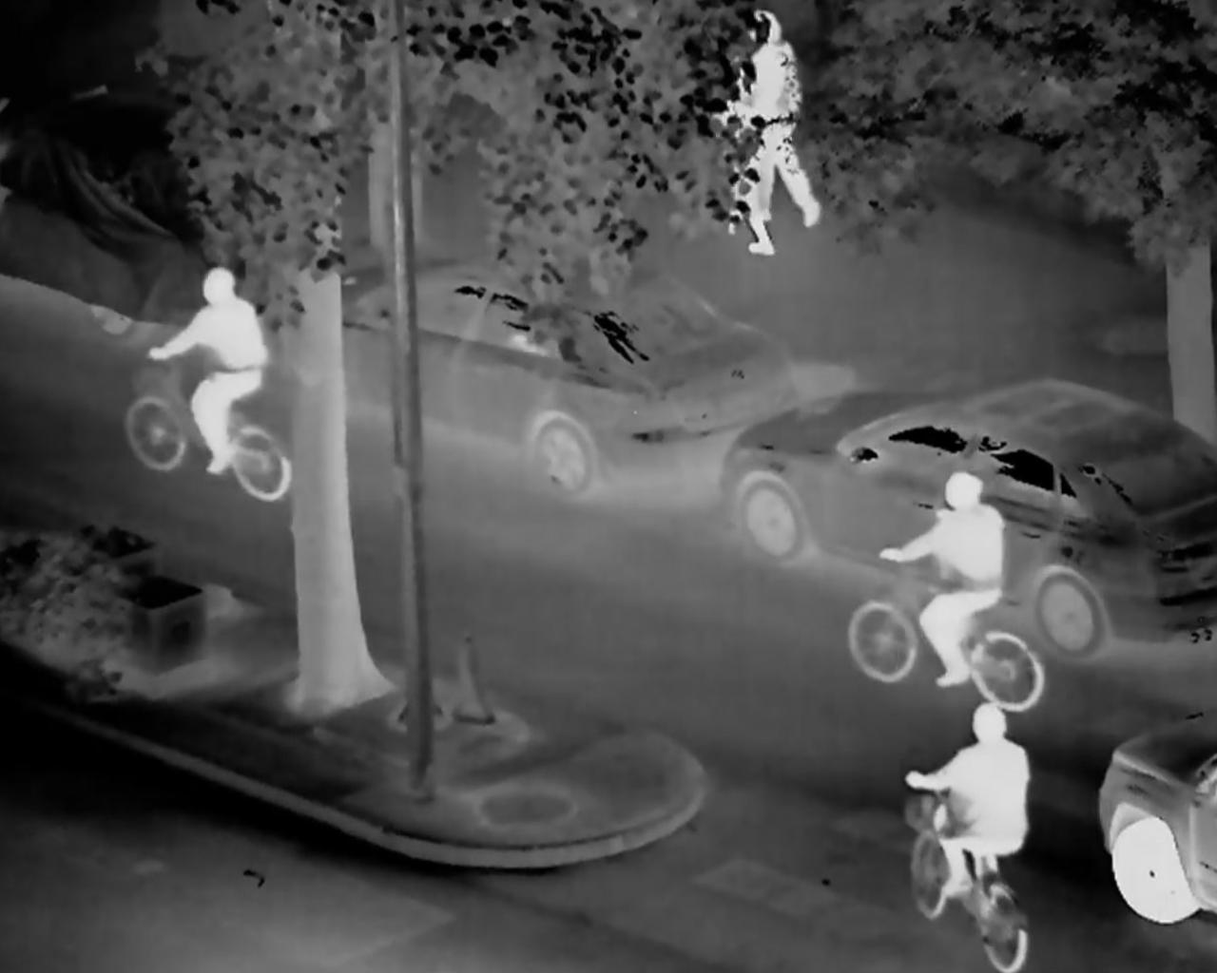person: (874, 473, 1031, 692), (145, 265, 275, 498), (901, 701, 1038, 906), (726, 3, 825, 258)
